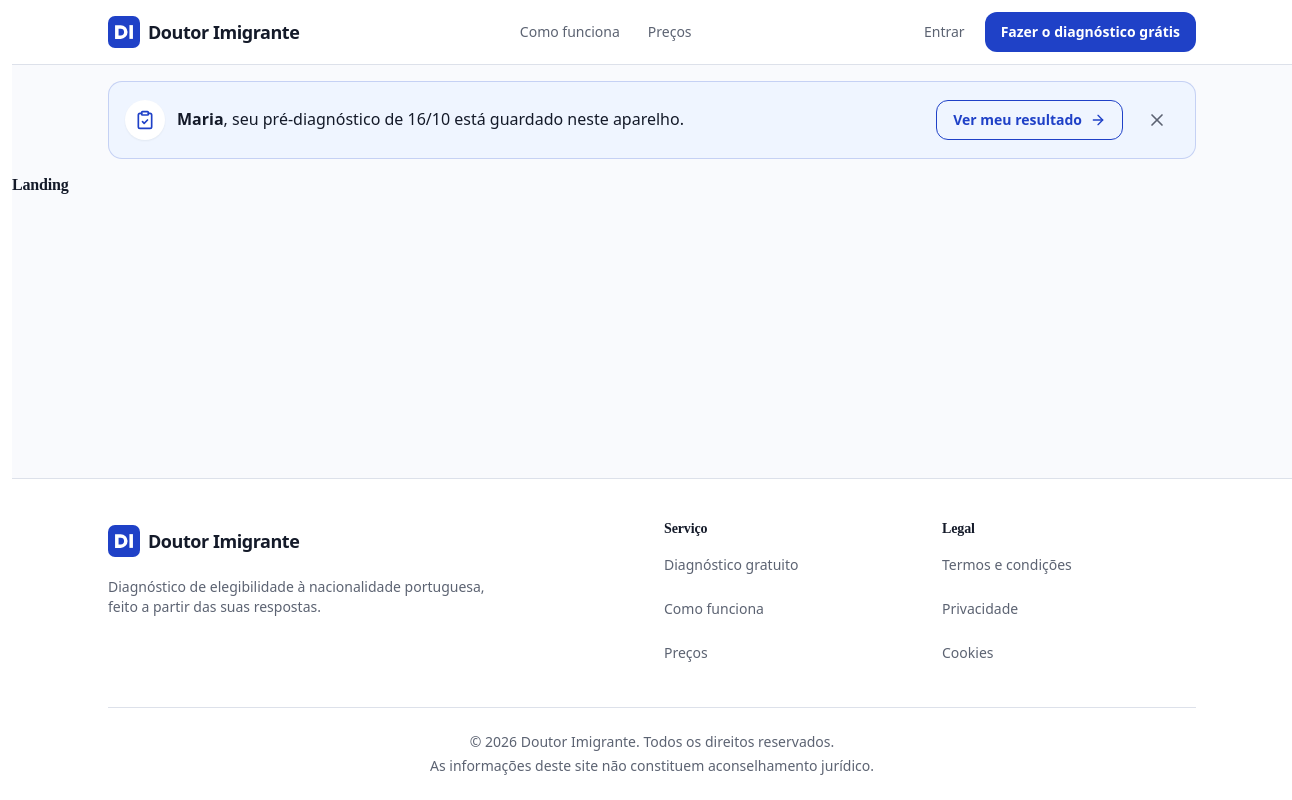
banner de visitante que voltou › dispensar: some, guarda por 7 dias e o foco vai para o conteúdo
Step 1. Click the button named "Dispensar aviso" → (1157, 120), box [1135, 98, 1179, 142]
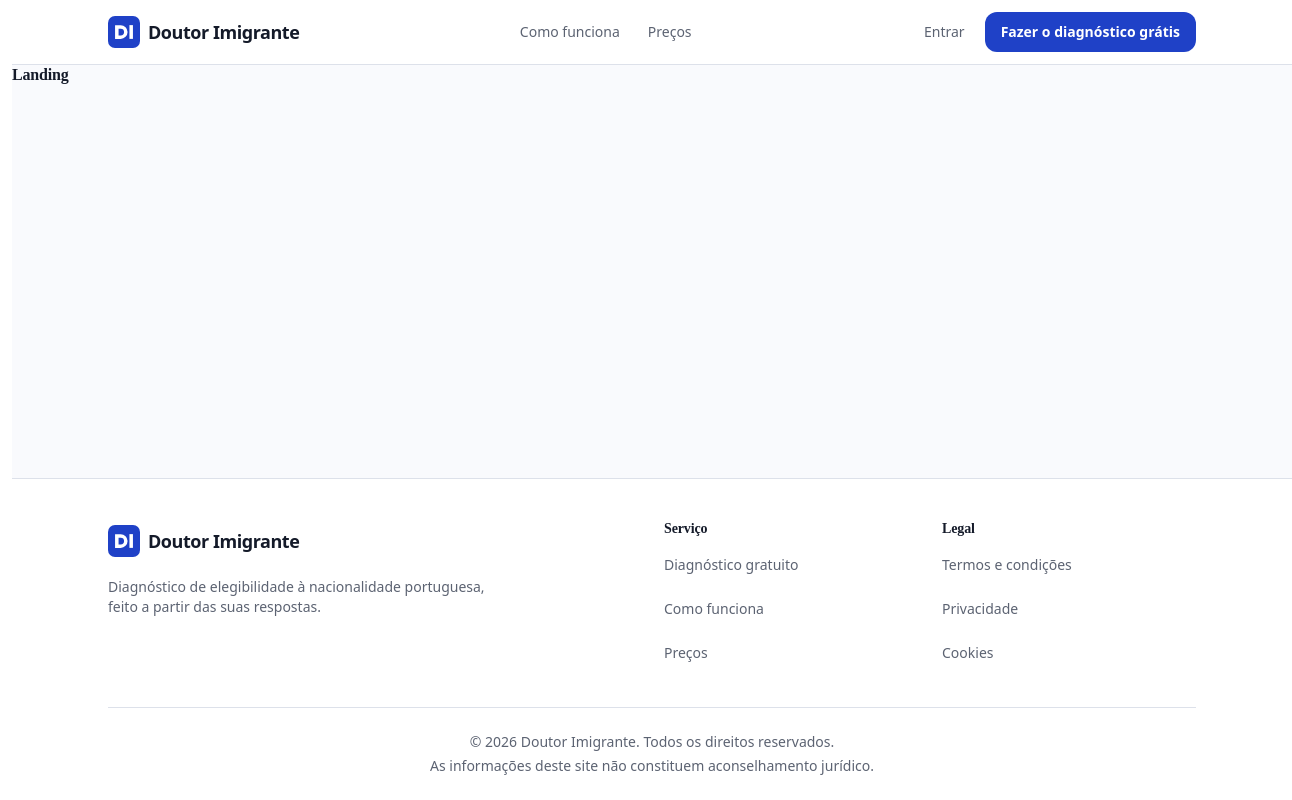
Result: the element with test id "returning-banner" is gone
